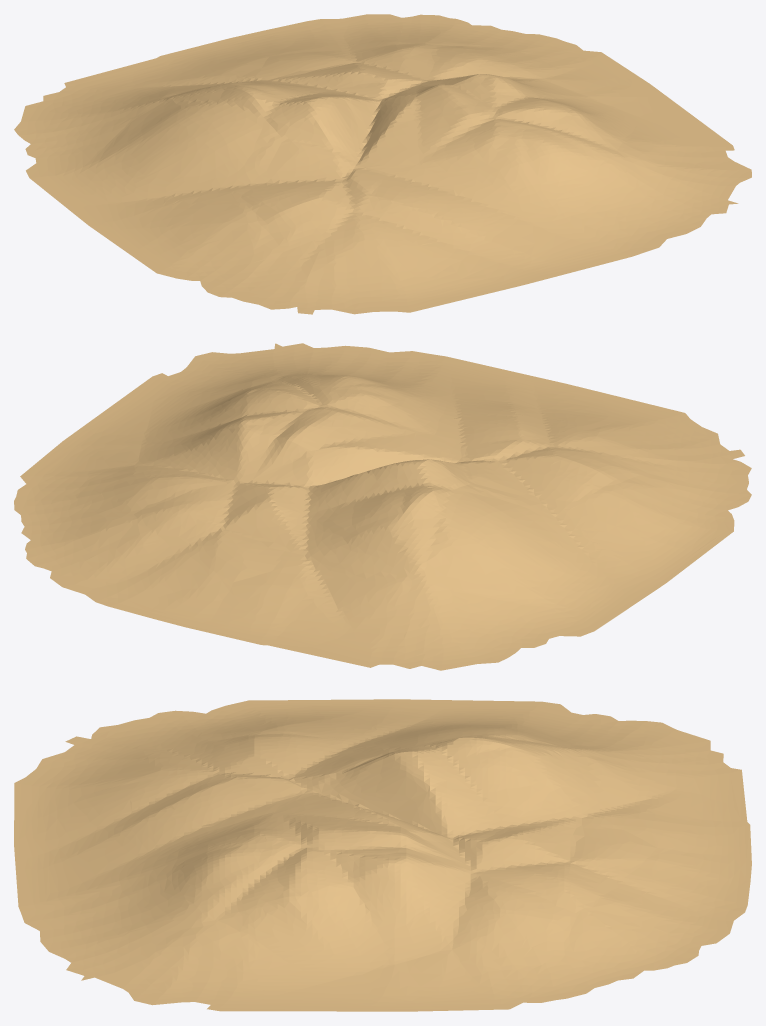
The model's file is MT_Island_L_f_11.fbx.
3 views of the same model, one above another, from view 1: azimuth 30°, elevation 25°; view 2: azimuth 150°, elevation 25°; view 3: azimuth 270°, elevation 25° (orthographic). The views are drawn at different scales.
Visible parts, largest first — view 1: MT_Island_L_f_11; view 2: MT_Island_L_f_11; view 3: MT_Island_L_f_11.
Boxes of the visible parts, left/top/right/bottom form: MT_Island_L_f_11: left=14, top=14, right=751, bottom=314; MT_Island_L_f_11: left=14, top=343, right=751, bottom=670; MT_Island_L_f_11: left=14, top=699, right=751, bottom=1011.
Bounding box in the file's own units: 19739 × 2115 × 19708.
